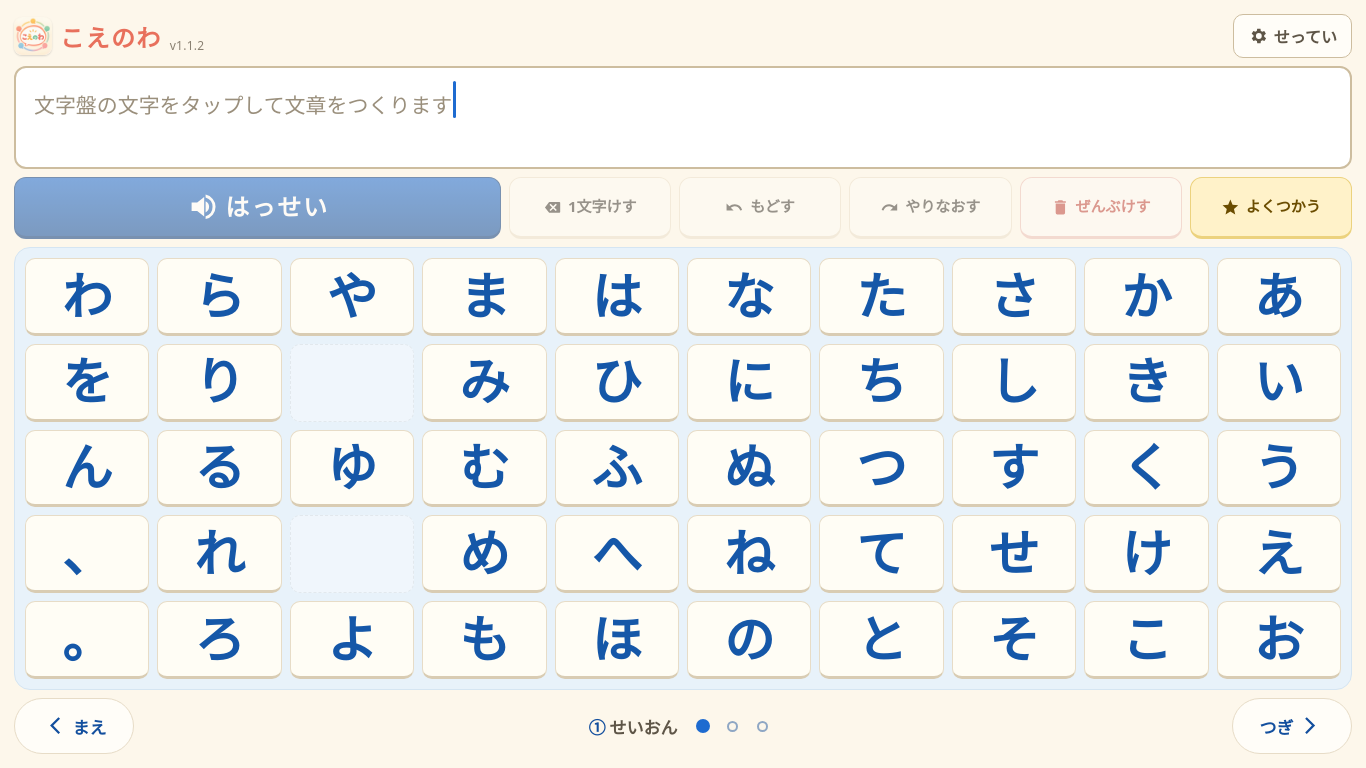
Test: 端末の標準音声（自動）と音声の診断 › 日本語のオンラインの声がある環境では、標準音声は選べず話さない
Click the button "は" at (617, 297), box [555,258,679,336]
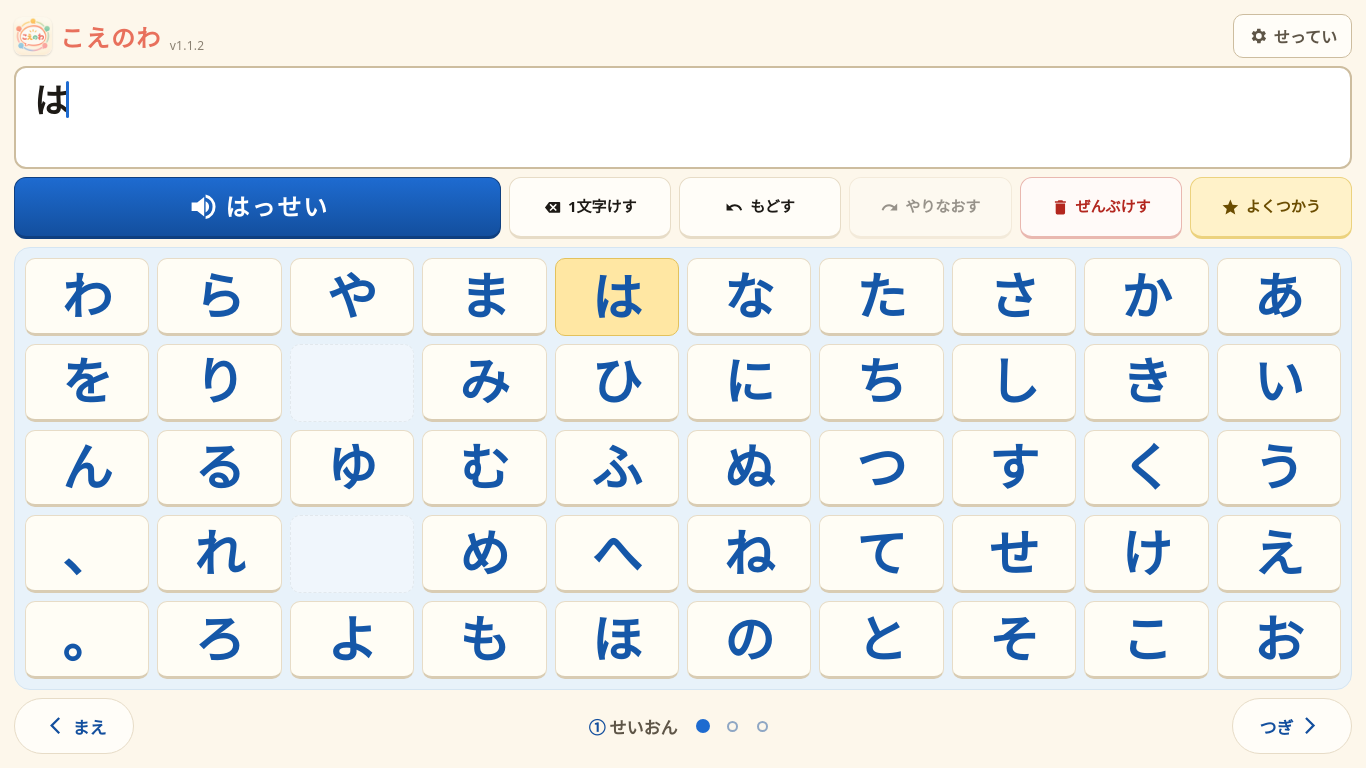
Click the button "い" at (1279, 383), box [1217,344,1341,422]
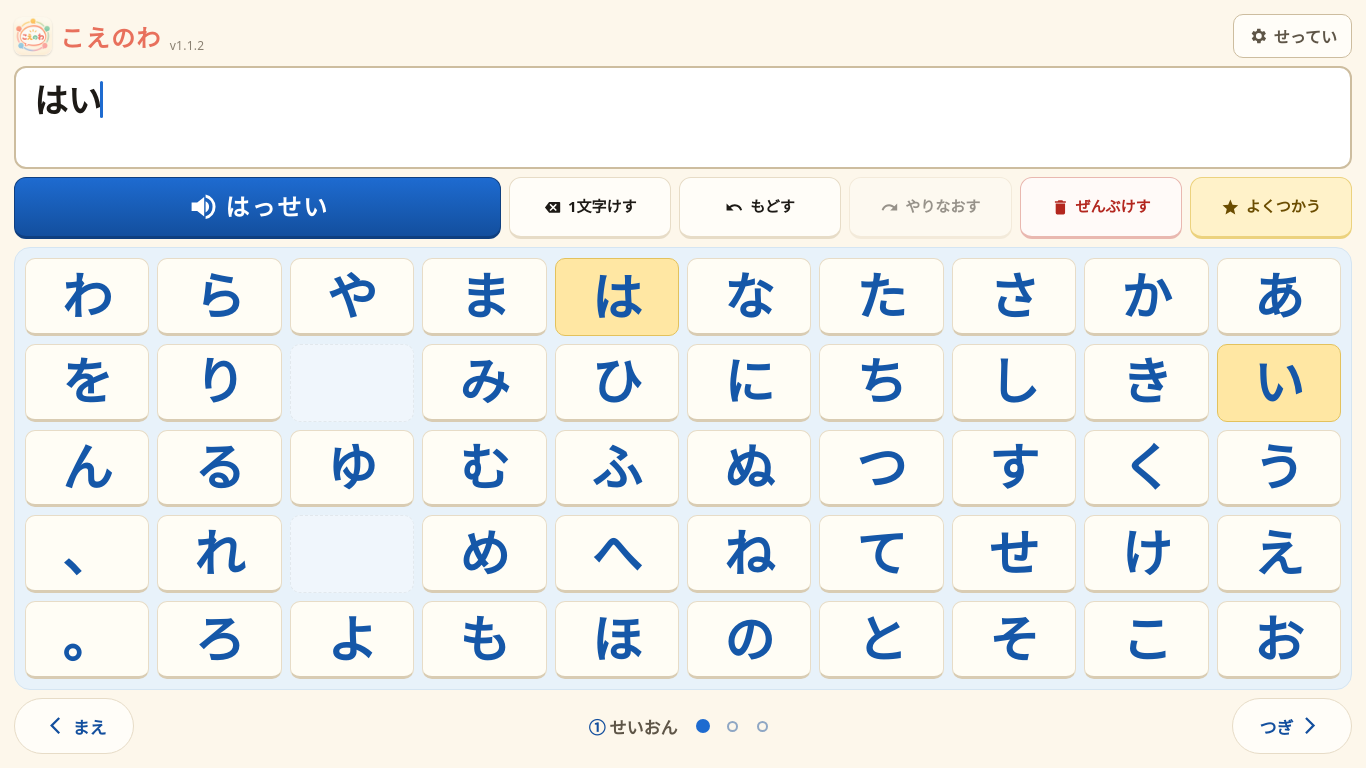
Click the button "はっせい" at (257, 208), box [14,177,501,239]
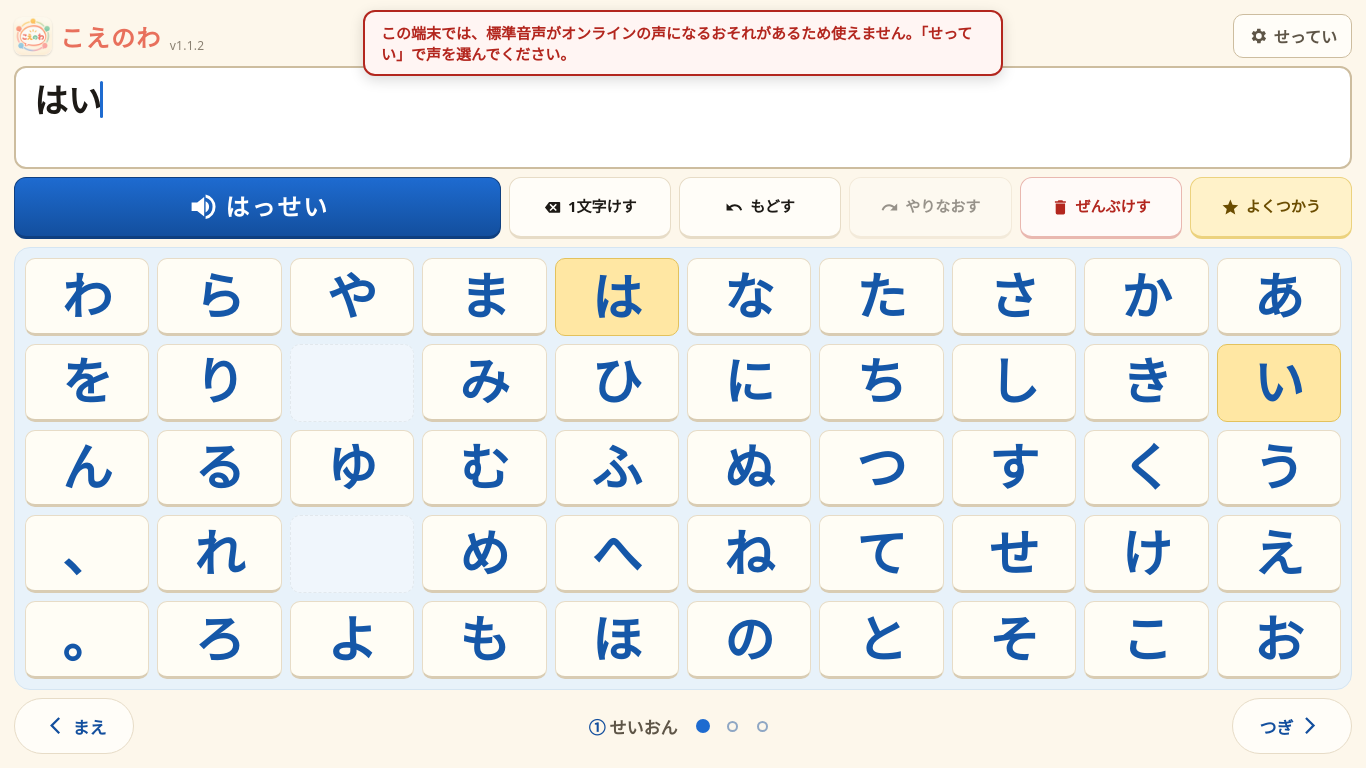
Check: the message shows "オンラインの声になるおそれ", box [381,23,972,64]
Click the button "せってい" at (1292, 36), box [1233,14,1352,58]
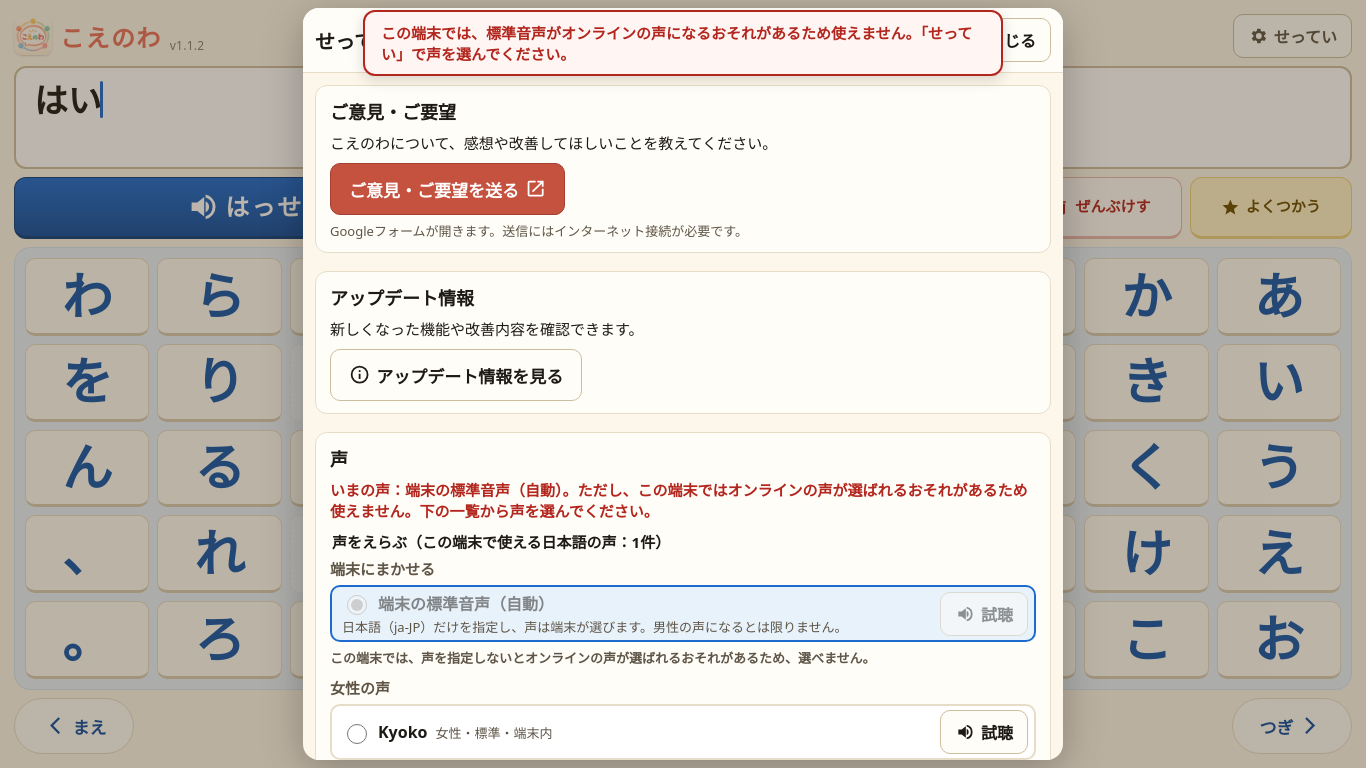
Check: the radio button labelled "端末の標準音声（自動） 日本語（ja-JP）だけを指定し、声は端末が選びます。男性の声になるとは限りません。" is disabled, box [347,594,367,614]
Check: the button with aria-label "端末の標準音声（自動）を試聴" is disabled, box [940,592,1028,636]
